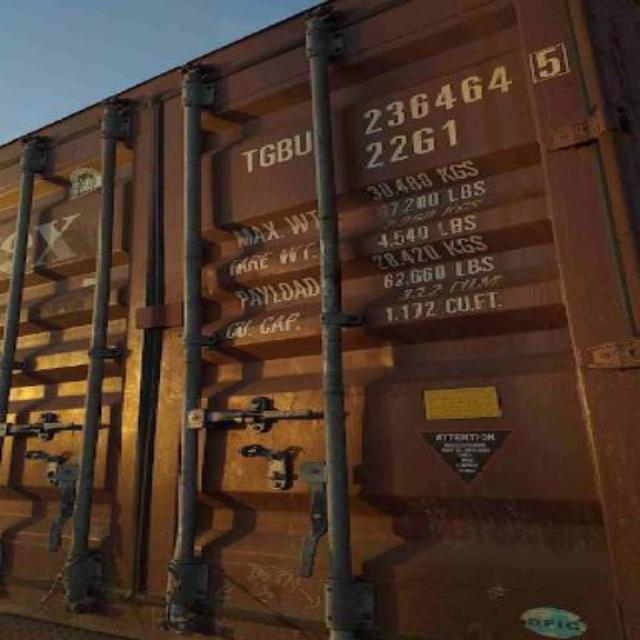2: (360, 108, 386, 134)
3: (384, 100, 408, 126)
4: (486, 66, 514, 96), (432, 84, 458, 110)
5: (530, 47, 568, 81)
6: (458, 75, 488, 102), (408, 92, 432, 120)
B: (278, 138, 294, 162)
G: (258, 144, 280, 166)
T: (238, 148, 260, 172)
U: (294, 129, 312, 157)
